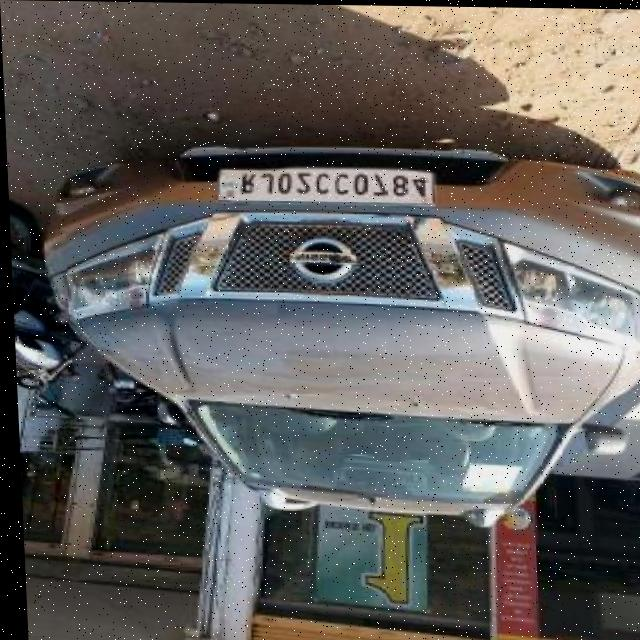plate: (213, 165, 435, 206)
